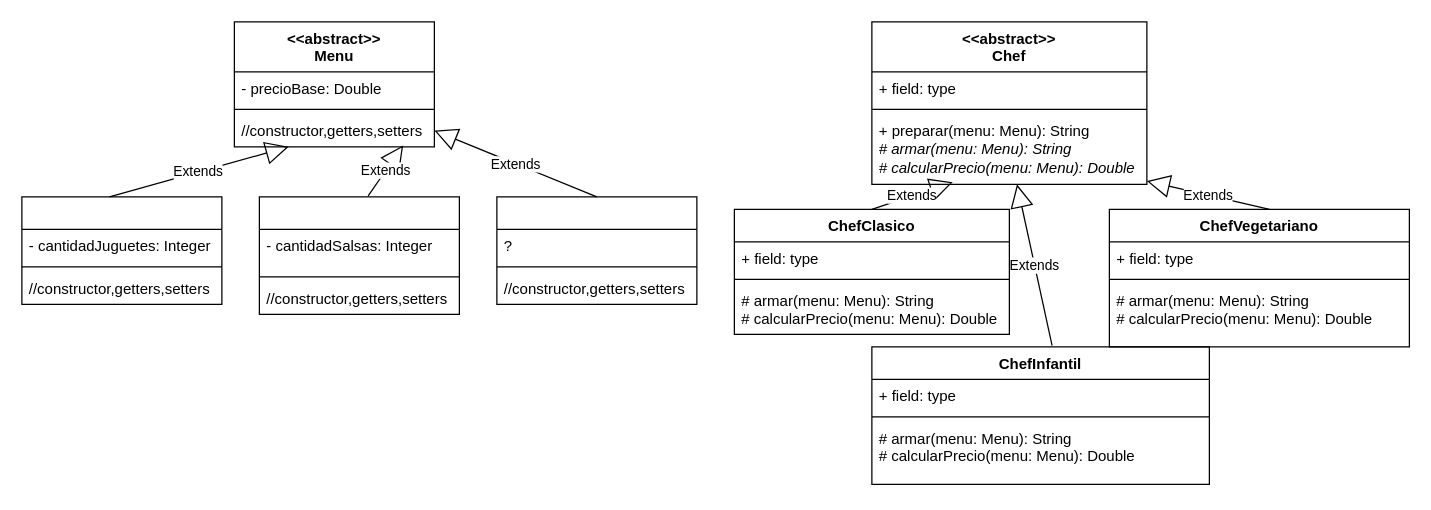
This 1431x510 diagram has some shape labels left out. The shapes that lost their labels are listed below. From the top down, each one's box as (x1, y1, x2, y2) in pixels, then its label:
(21, 196, 222, 304): MenuInfantil
(258, 196, 459, 314): MenuVegetariano
(496, 196, 697, 304): MenuClasico
